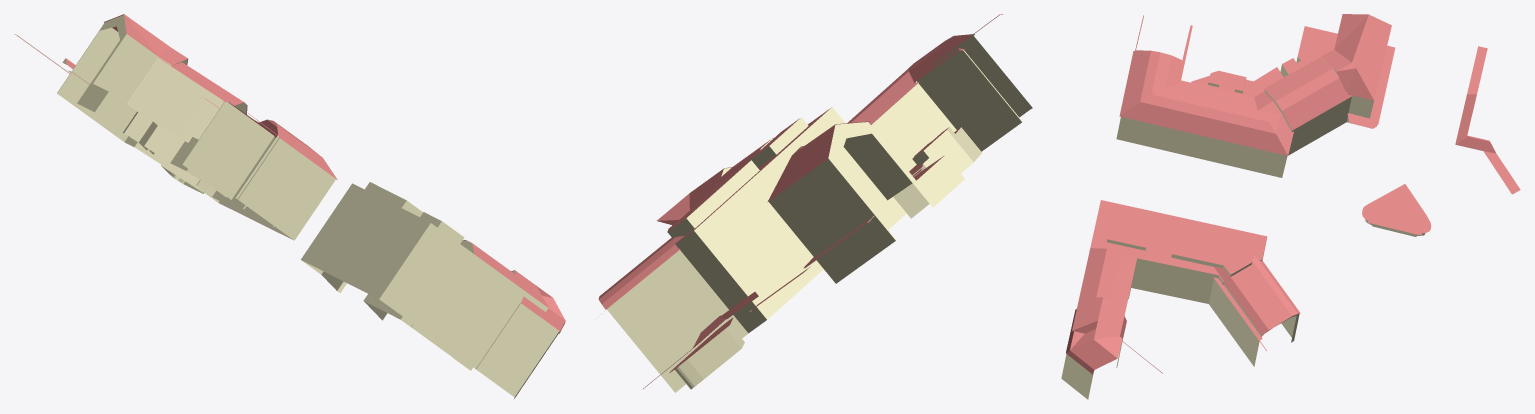
File: tile_041.glb
3 views of the same model, side by side, from view 1: azimuth 30°, elevation 25°; view 2: azimuth 150°, elevation 25°; view 3: azimuth 270°, elevation 25° (orthographic). The views are drawn at different scales.
Parts seen in each view (by area): view 1: Batched_Building_ID_DC5F01A4-EF27-425E-890F-8059ED4B8541, Batched_Building_ID_A89CE5EA-902C-4880-853B-C28E7BE2C484; view 2: Batched_Building_ID_DC5F01A4-EF27-425E-890F-8059ED4B8541, Batched_Building_ID_A89CE5EA-902C-4880-853B-C28E7BE2C484; view 3: Batched_Building_ID_A89CE5EA-902C-4880-853B-C28E7BE2C484, Batched_Building_ID_DC5F01A4-EF27-425E-890F-8059ED4B8541.
Boxes of the visible parts, x1=… form: Batched_Building_ID_DC5F01A4-EF27-425E-890F-8059ED4B8541: x1=14, y1=15, x2=559, y2=398; Batched_Building_ID_A89CE5EA-902C-4880-853B-C28E7BE2C484: x1=18, y1=14, x2=565, y2=333; Batched_Building_ID_DC5F01A4-EF27-425E-890F-8059ED4B8541: x1=607, y1=34, x2=1032, y2=392; Batched_Building_ID_A89CE5EA-902C-4880-853B-C28E7BE2C484: x1=598, y1=14, x2=1003, y2=388; Batched_Building_ID_A89CE5EA-902C-4880-853B-C28E7BE2C484: x1=1066, y1=14, x2=1520, y2=374; Batched_Building_ID_DC5F01A4-EF27-425E-890F-8059ED4B8541: x1=1061, y1=57, x2=1480, y2=399.
Bounding box in the file's own units: 118 × 104 × 151.
